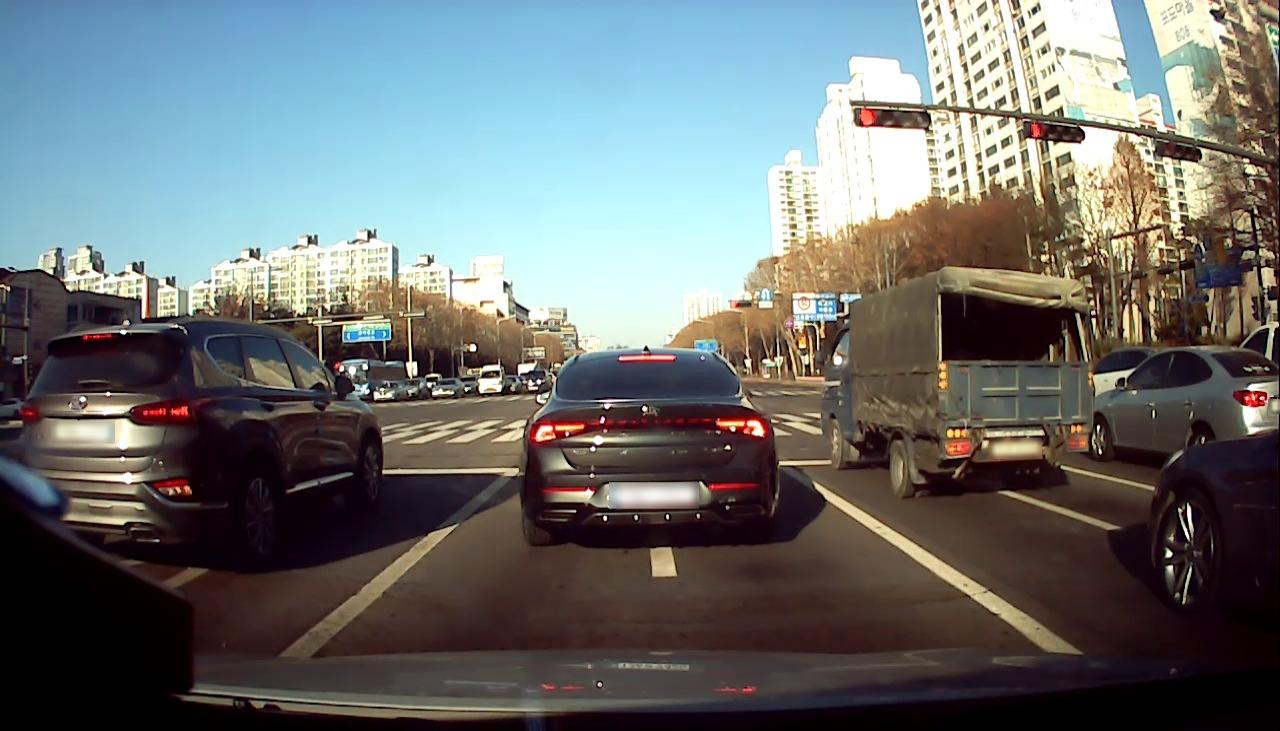Red Light: (856, 106, 879, 130), (1029, 121, 1044, 139)
